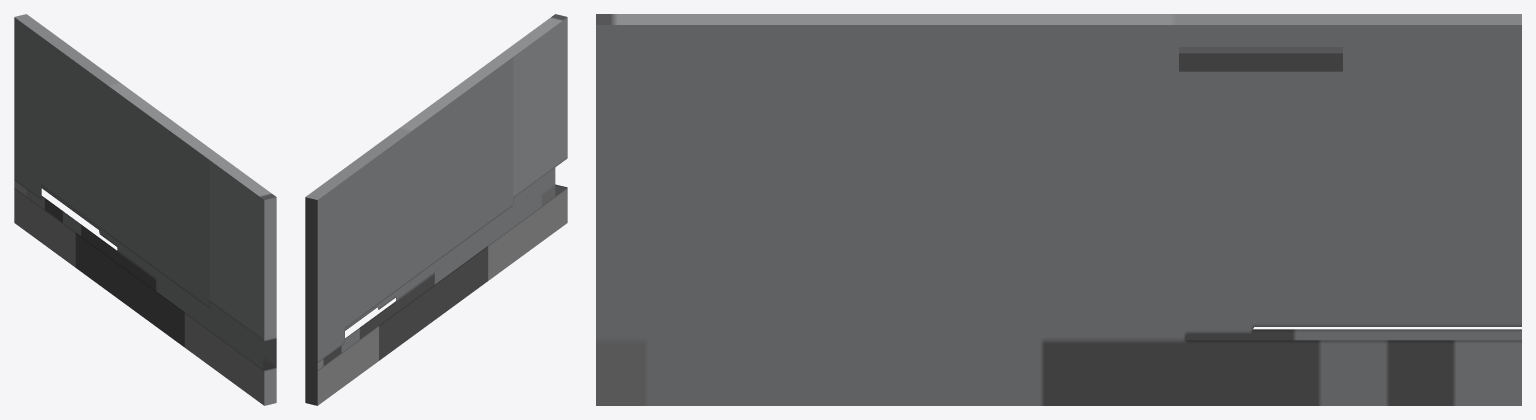
3 renders of one model, left to right at view 1: azimuth 30°, elevation 25°; view 2: azimuth 150°, elevation 25°; view 3: azimuth 270°, elevation 25°, orthographic. The views are drawn at different scales.
Size of the model in its own units: 0.0756 by 0.775 by 1.71.
